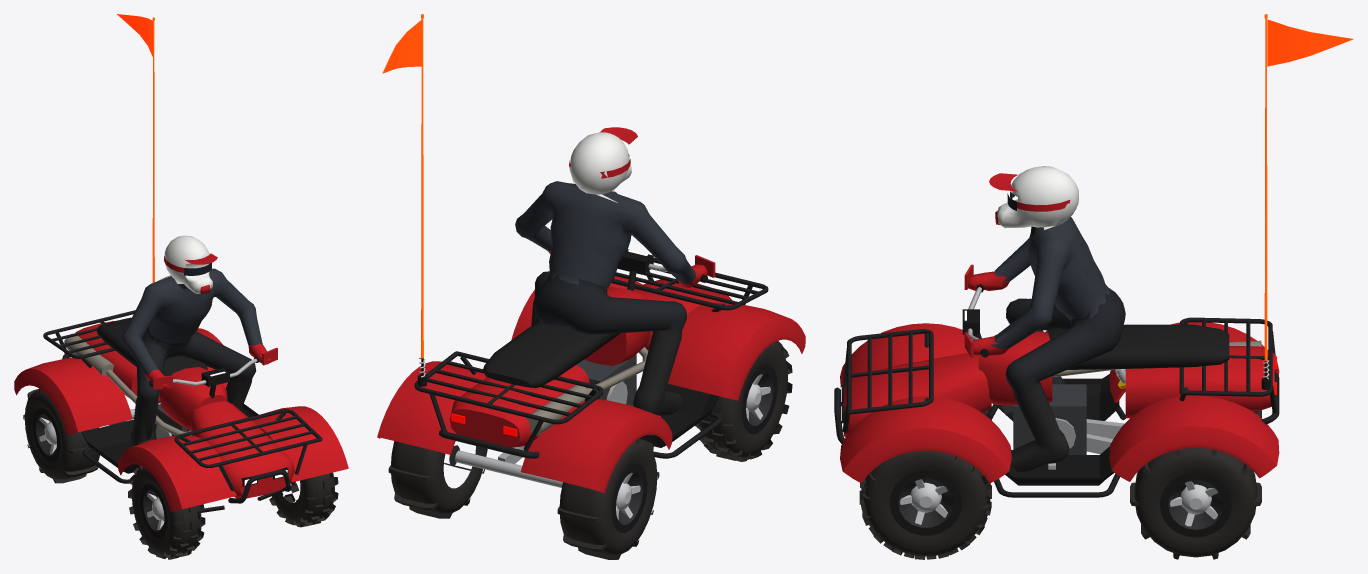
The model's file is ohv_atv.glb.
3 views of the same model, side by side, from view 1: azimuth 30°, elevation 25°; view 2: azimuth 150°, elevation 25°; view 3: azimuth 270°, elevation 25° (orthographic). The views are drawn at different scales.
Visible parts, largest first — view 1: body, rider, wheel_FR, wheel_RR, wheel_FL, whip; view 2: body, rider, wheel_RR, wheel_FR, wheel_RL, whip; view 3: body, rider, wheel_FL, wheel_RL, whip.
Part boxes in pixels (x1,y1,x2,y2): body: (14,310,348,512); rider: (122,235,271,446); wheel_FR: (128,465,205,559); wheel_RR: (23,388,99,483); wheel_FL: (269,472,338,527); whip: (117,14,154,282); body: (377,249,805,493); rider: (515,127,707,415); wheel_RR: (557,438,659,559); wheel_FR: (695,341,792,461); wheel_RL: (388,441,487,518); whip: (382,14,426,386); body: (834,264,1279,497); rider: (965,166,1125,471); wheel_FL: (859,450,991,559); wheel_RL: (1130,448,1261,559); whip: (1261,14,1353,389).
Size of the model in its own units: 1.21 by 2.71 by 2.41.
